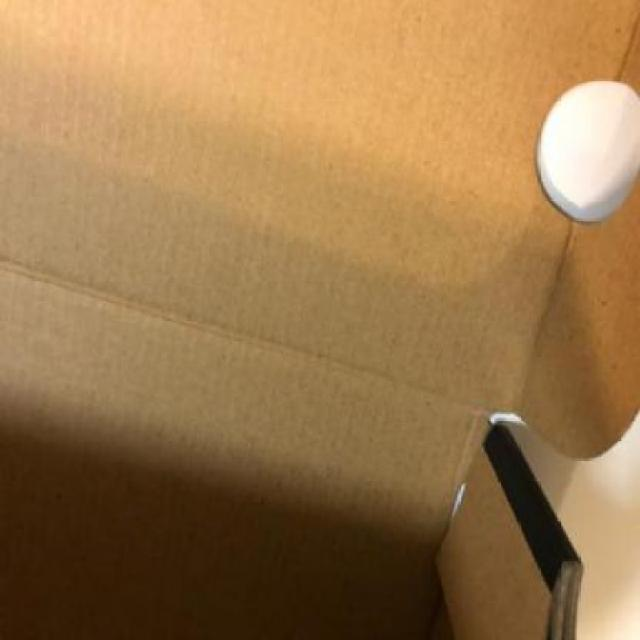CARDBOARD: (0, 0, 638, 638), (0, 257, 583, 638)
